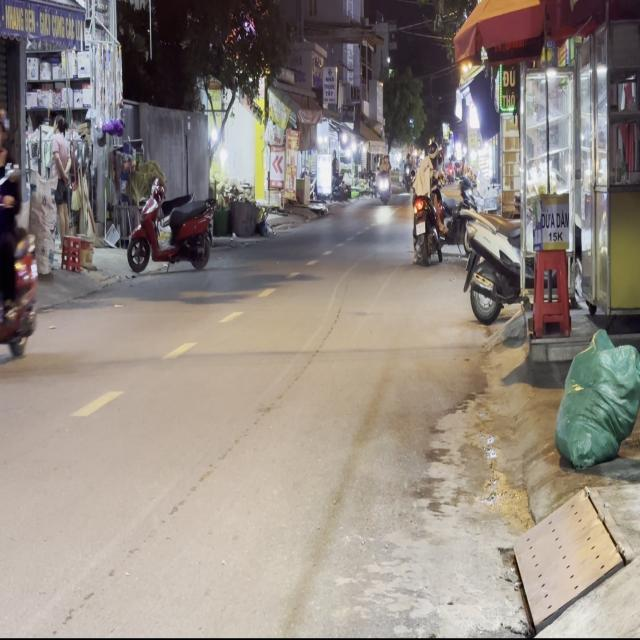helmet: (0, 110, 9, 154)
licenseplate: (0, 108, 42, 379)
